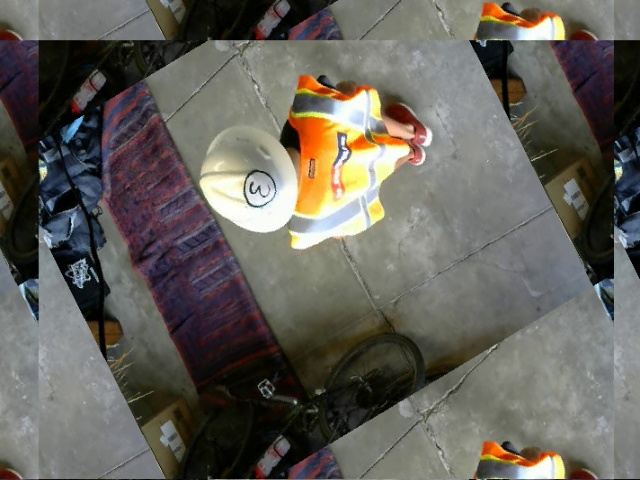three: (236, 163, 279, 211)
